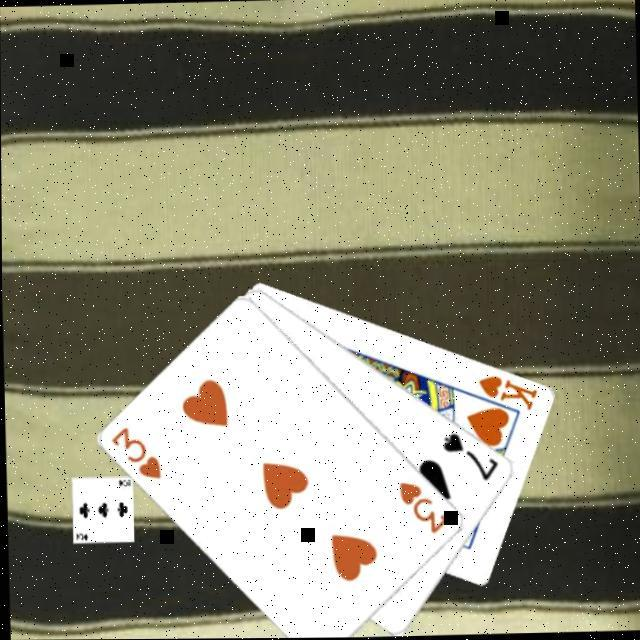3H: (106, 423, 163, 484), (394, 478, 449, 539)
7S: (438, 430, 500, 485)
KH: (473, 372, 539, 415)
